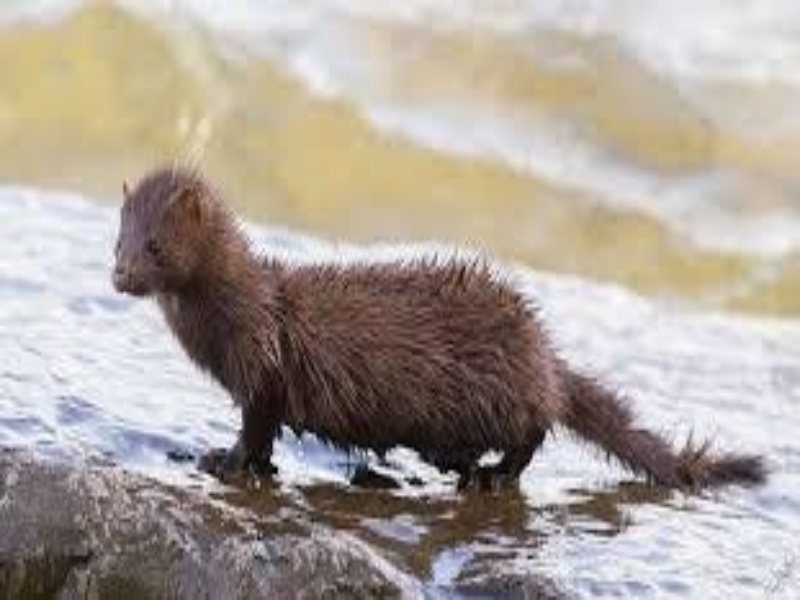minkish: (109, 165, 763, 497)
